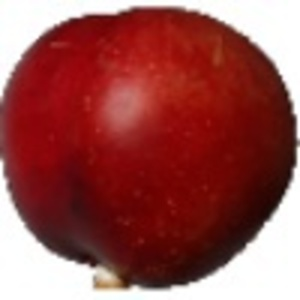nectarina: (1, 1, 300, 294)
